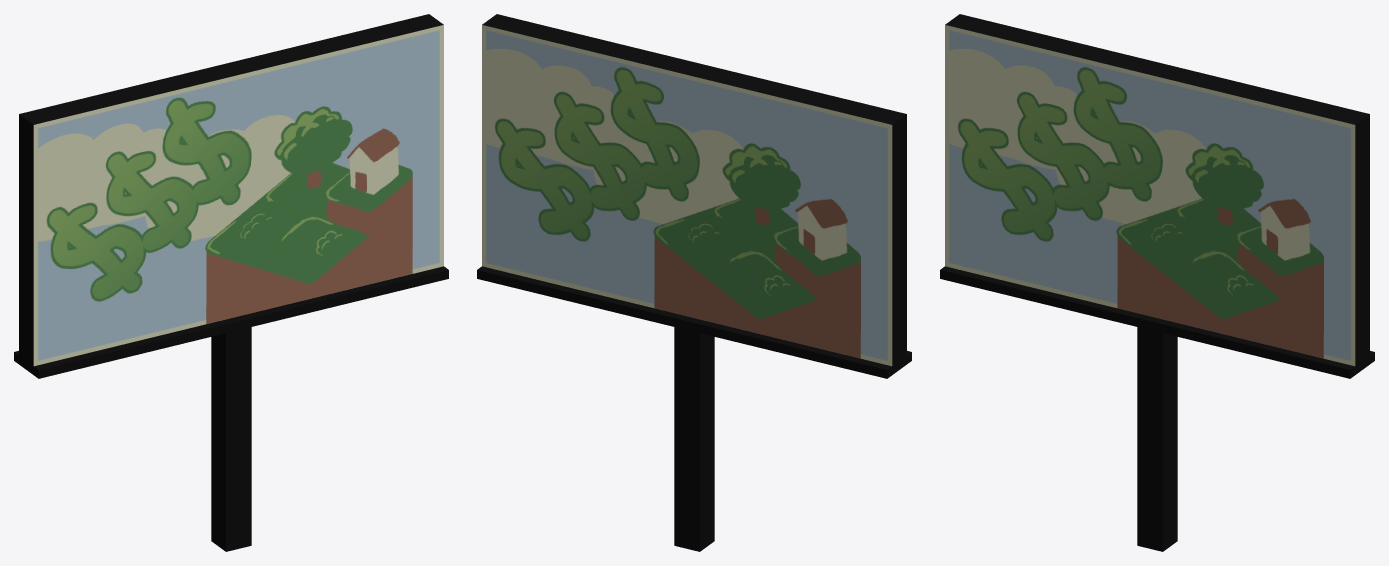
The model's file is Billboard_3_v2.obj.
The picture shows the model from 3 angles, left to right: view 1: azimuth 30°, elevation 25°; view 2: azimuth 150°, elevation 25°; view 3: azimuth 330°, elevation 25°; orthographic projection.
Visible parts, largest first — view 1: Billboard_3; view 2: Billboard_3; view 3: Billboard_3.
Boxes of the visible parts, <box> form: Billboard_3: <box>14,14,448,551</box>; Billboard_3: <box>477,14,911,551</box>; Billboard_3: <box>940,14,1374,551</box>.
Bounding box in the file's own units: 9.6 × 10.6 × 1.
2 materials, 1 textured.
